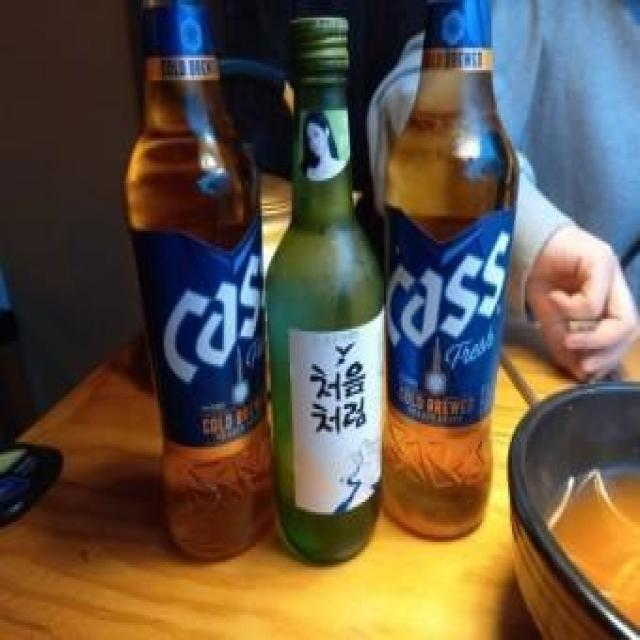beer-bottle: (121, 0, 282, 555), (379, 0, 520, 547)
soju-bottle: (265, 14, 383, 574)
